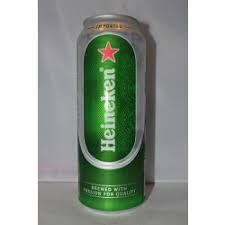beer: (74, 14, 151, 209)
